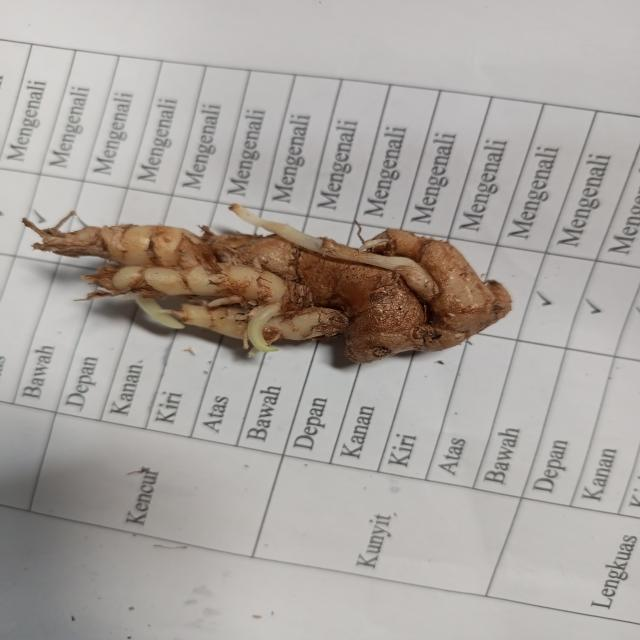ginger: (76, 212, 500, 358)
